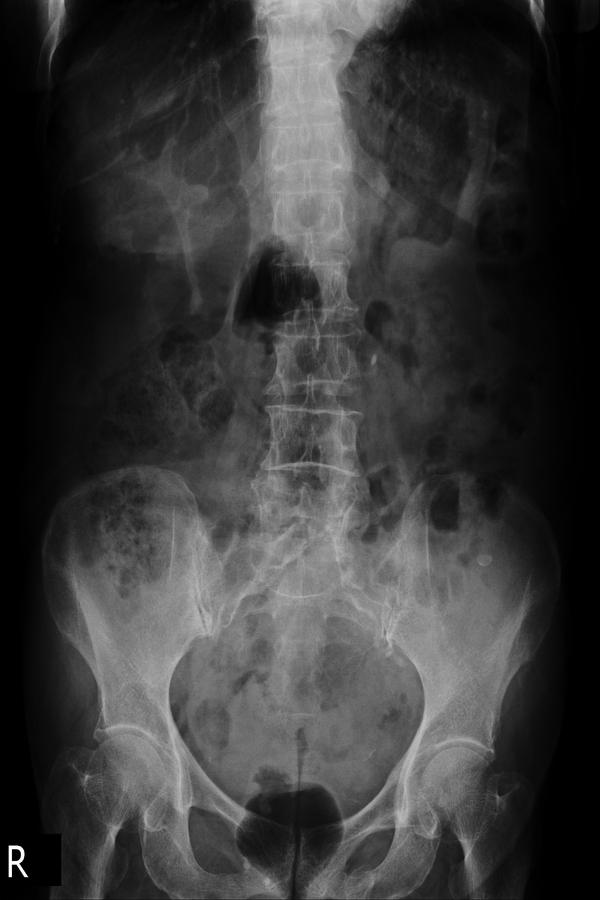lumbar scoliosis: (239, 17, 371, 609)
